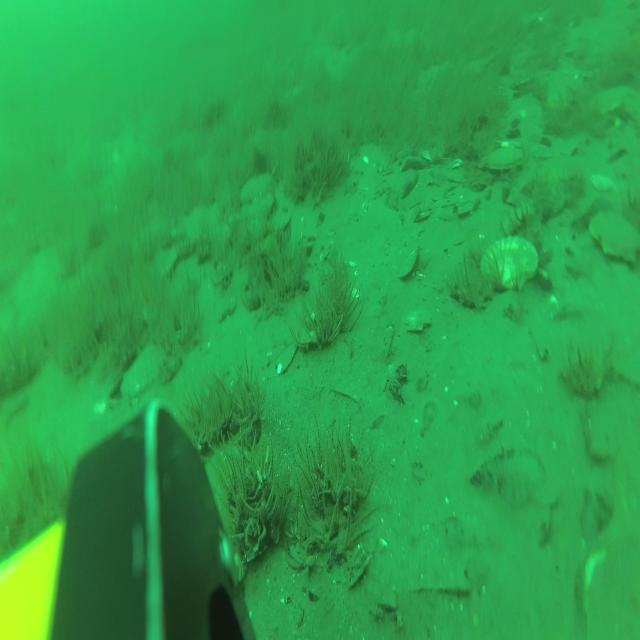scallop: (477, 229, 539, 294), (588, 206, 640, 268), (120, 340, 168, 400), (238, 172, 277, 208), (480, 143, 526, 173), (402, 304, 434, 336)
